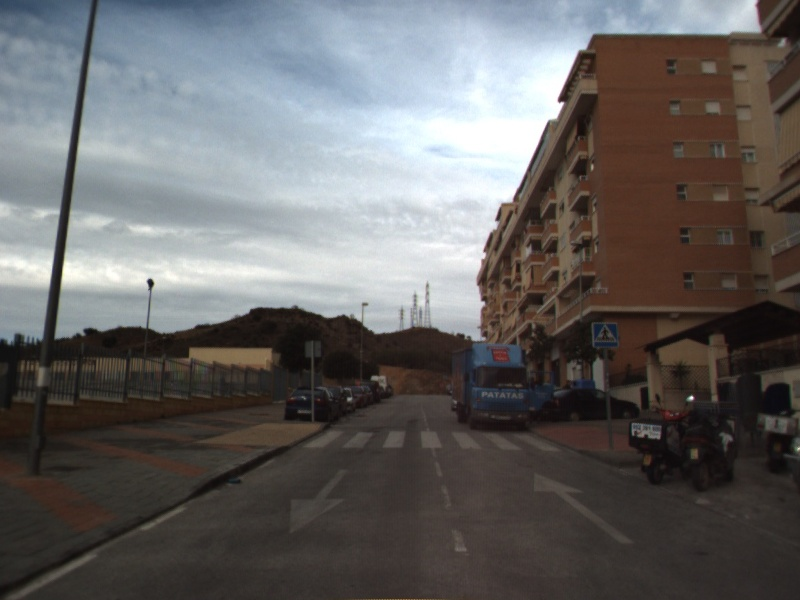STRAIGHT: (532, 471, 636, 546)
